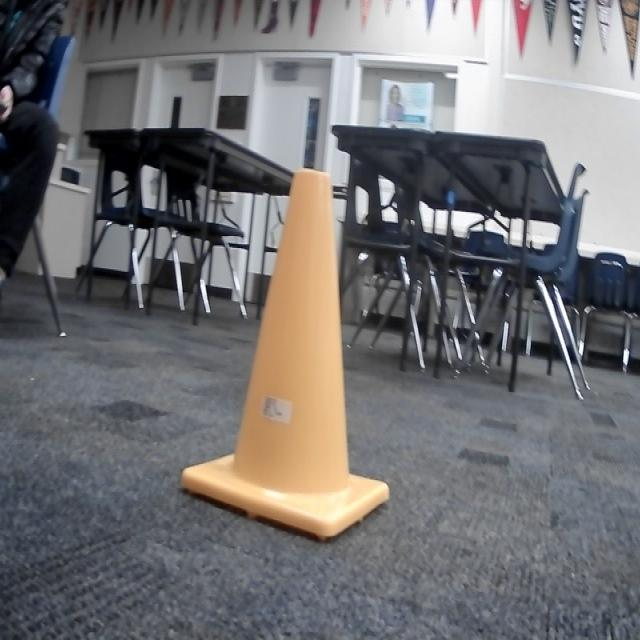cone: (180, 170, 390, 546)
